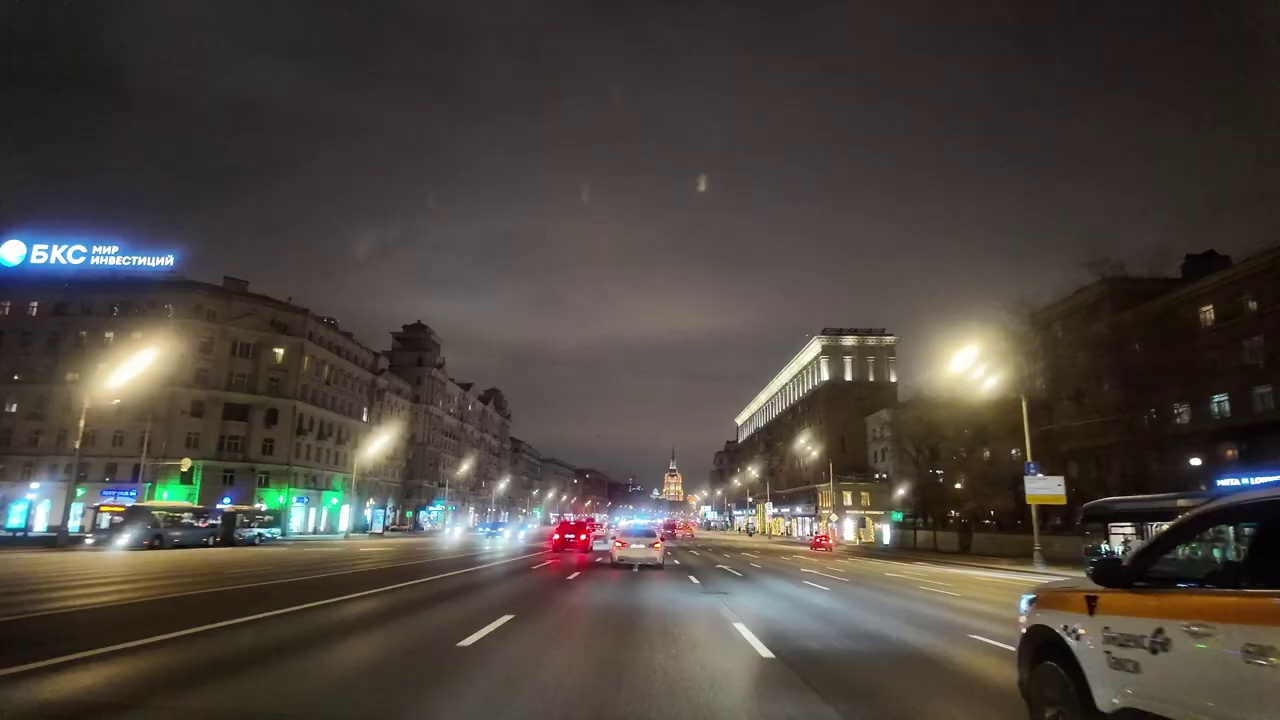acesa: (99, 335, 174, 397), (936, 335, 999, 394), (355, 424, 400, 467), (791, 431, 822, 466)
